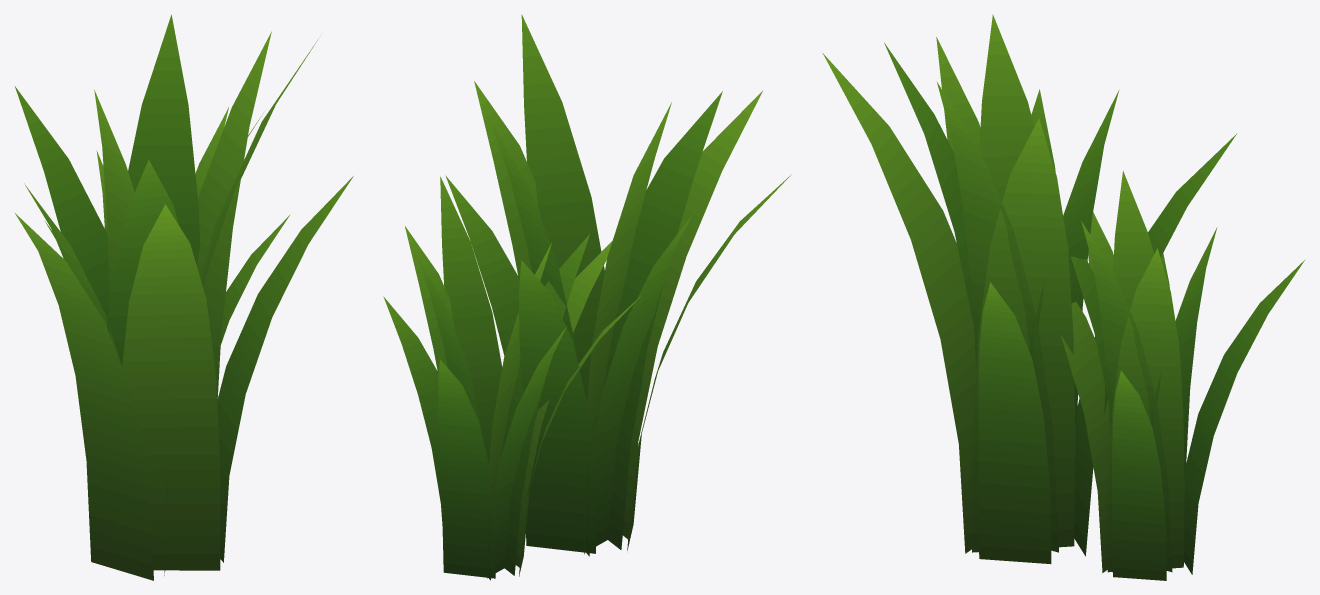
Rendered from PASTO TILE2.fbx.
The picture shows the model from 3 angles, left to right: view 1: azimuth 30°, elevation 25°; view 2: azimuth 150°, elevation 25°; view 3: azimuth 270°, elevation 25°; orthographic projection. The views are drawn at different scales.
Parts seen in each view (by area): view 1: Pasto_Mata.001; view 2: Pasto_Mata.001; view 3: Pasto_Mata.001.
Part boxes in pixels (x1,y1,x2,y2): Pasto_Mata.001: (15,14,353,580); Pasto_Mata.001: (383,14,791,580); Pasto_Mata.001: (822,15,1305,580).
Bounding box in the file's own units: 20.93 × 28.43 × 24.22.
